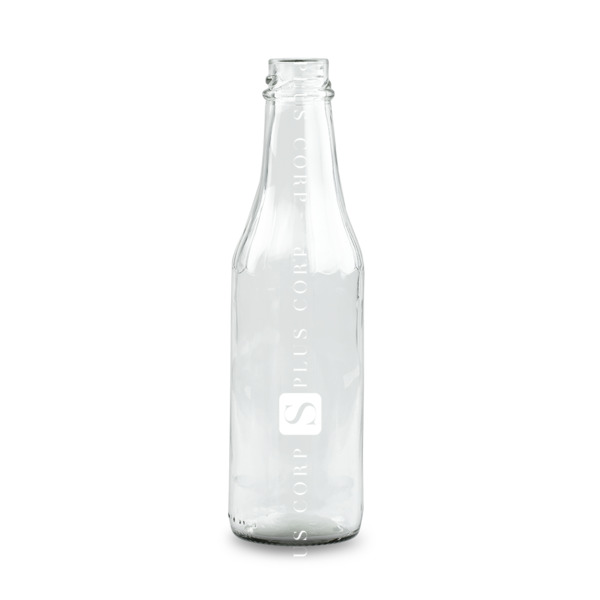glass_bottle: (211, 43, 387, 560)
